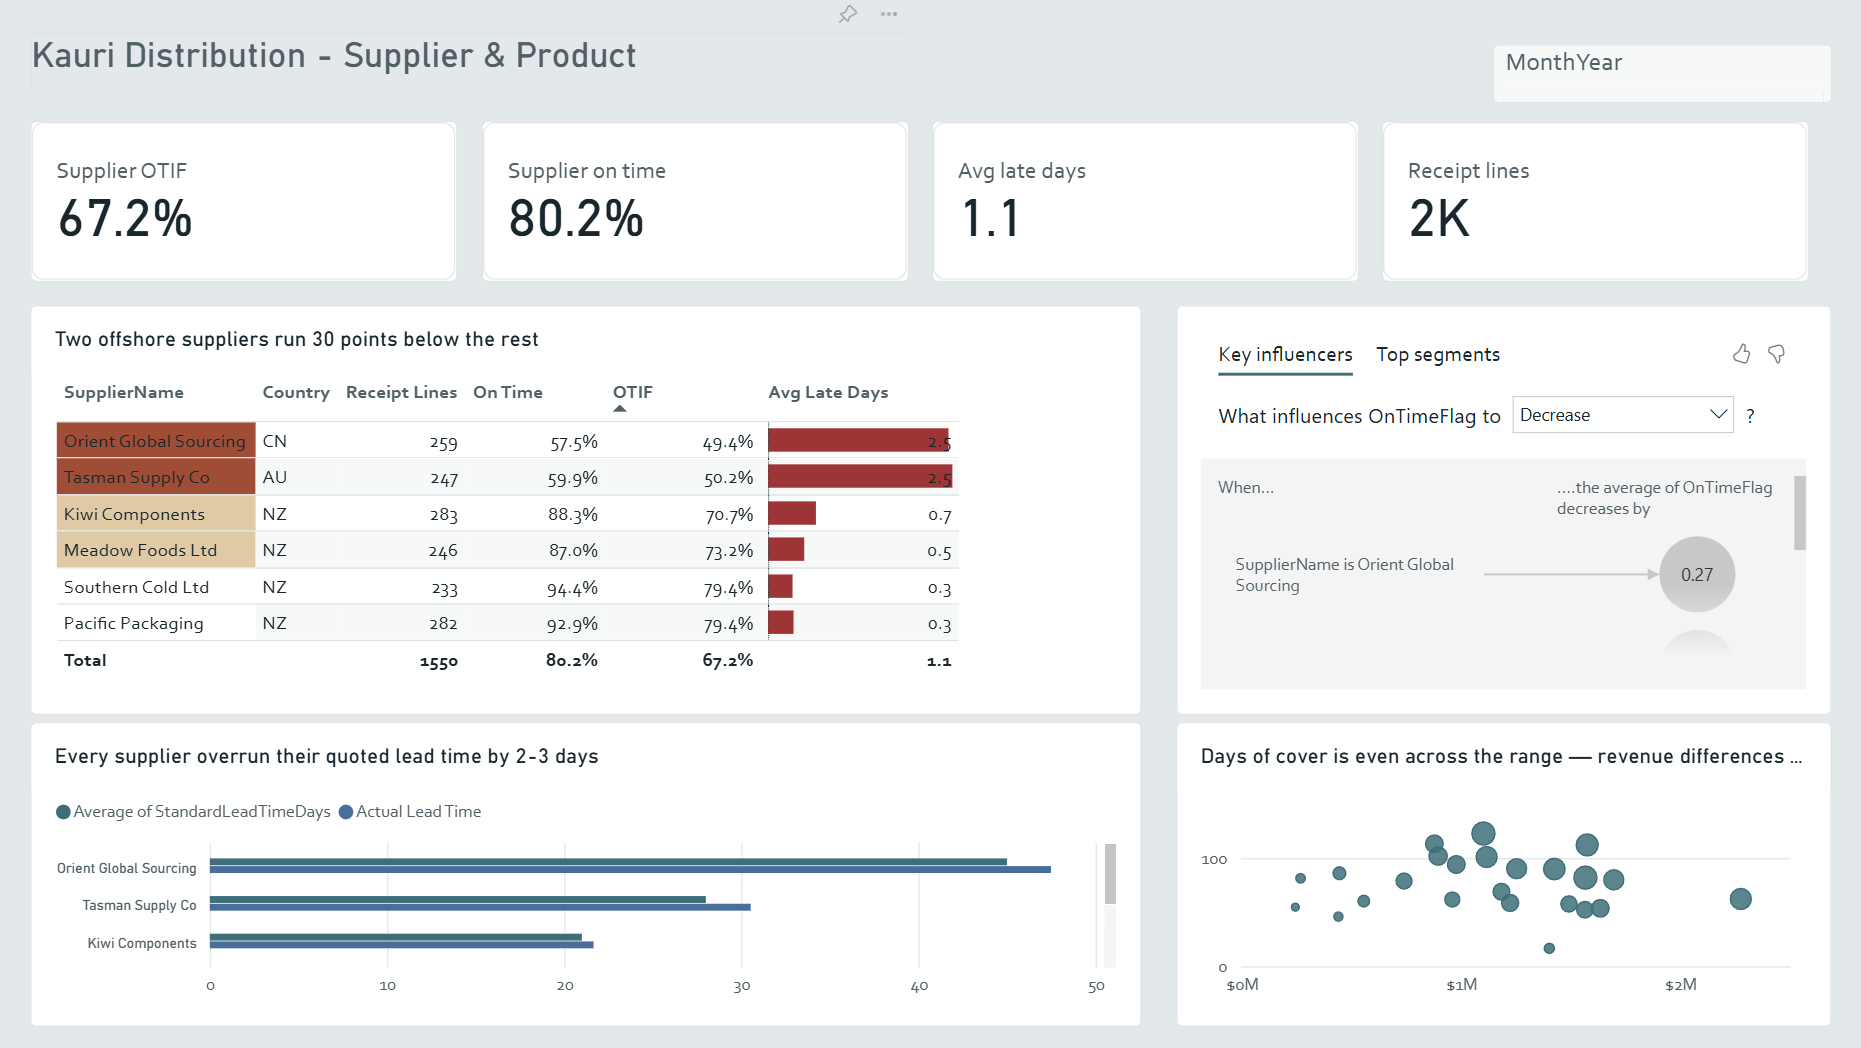

What the dashboard file says about the page in this screenshot:
{"tool":"powerbi","page":{"name":"Supplier & Product","canvas":[1280,720],"ordinal":4},"visuals":[{"type":"textbox","box":[24,24,600,40],"z":0},{"type":"cardVisual","fields":{"Data":["_Measures.Supplier OTIF %"]},"box":[24,84,292,110],"z":1000},{"type":"cardVisual","fields":{"Data":["_Measures.Supplier On Time %"]},"box":[332,84,292,110],"z":2000},{"type":"cardVisual","fields":{"Data":["_Measures.Avg Late Days"]},"box":[640,84,292,110],"z":3000},{"type":"cardVisual","fields":{"Data":["_Measures.Receipt Lines"]},"box":[948,84,292,110],"z":4000},{"type":"tableEx","title":"Two offshore suppliers run 30 points below the rest","fields":{"Values":["DimSupplier.SupplierName","DimSupplier.Country","_Measures.Receipt Lines","_Measures.Supplier On Time %","_Measures.Supplier OTIF %","_Measures.Avg Late Days"]},"box":[24,210,760,280],"z":5000},{"type":"keyDriversVisual","fields":{"ExplainBy":["DimSupplier.SupplierName","DimSupplier.Country","DimProduct.Category","DimWarehouse.WarehouseName"],"Target":["FactPurchaseReceipts.OnTimeFlag"]},"box":[808,210,448,280],"z":6000},{"type":"clusteredBarChart","title":"Every supplier overrun their quoted lead time by 2-3 days","fields":{"Category":["DimSupplier.SupplierName"],"Y":["Avg(DimSupplier.StandardLeadTimeDays)","_Measures.Actual Lead Time"]},"box":[24,496,760,208],"z":7000},{"type":"scatterChart","title":"Days of cover is even across the range — revenue differences come from price","fields":{"Category":["DimProduct.ProductName"],"Size":["_Measures.Inventory Value"],"X":["_Measures.Revenue"],"Y":["_Measures.Days of Cover"]},"box":[808,496,448,208],"z":8000},{"type":"slicer","fields":{"Values":["DimDate.MonthYear"]},"box":[1024,32,232,40],"z":9000}]}

Visuals, with their boxes in screenshot pixels (x1, y1, x2, y2), scaled from the page's 1280x720 canvas onto the 1861x1048 screenshot:
textbox: 35/35/907/93
cardVisual - _Measures.Supplier OTIF %: 35/122/459/282
cardVisual - _Measures.Supplier On Time %: 483/122/907/282
cardVisual - _Measures.Avg Late Days: 930/122/1355/282
cardVisual - _Measures.Receipt Lines: 1378/122/1803/282
"Two offshore suppliers run 30 points below the rest" tableEx: 35/306/1140/713
keyDriversVisual - DimSupplier.SupplierName x DimSupplier.Country: 1175/306/1826/713
"Every supplier overrun their quoted lead time by 2-3 days" clusteredBarChart: 35/722/1140/1025
"Days of cover is even across the range — revenue differences come from price" scatterChart: 1175/722/1826/1025
slicer - DimDate.MonthYear: 1489/47/1826/105
